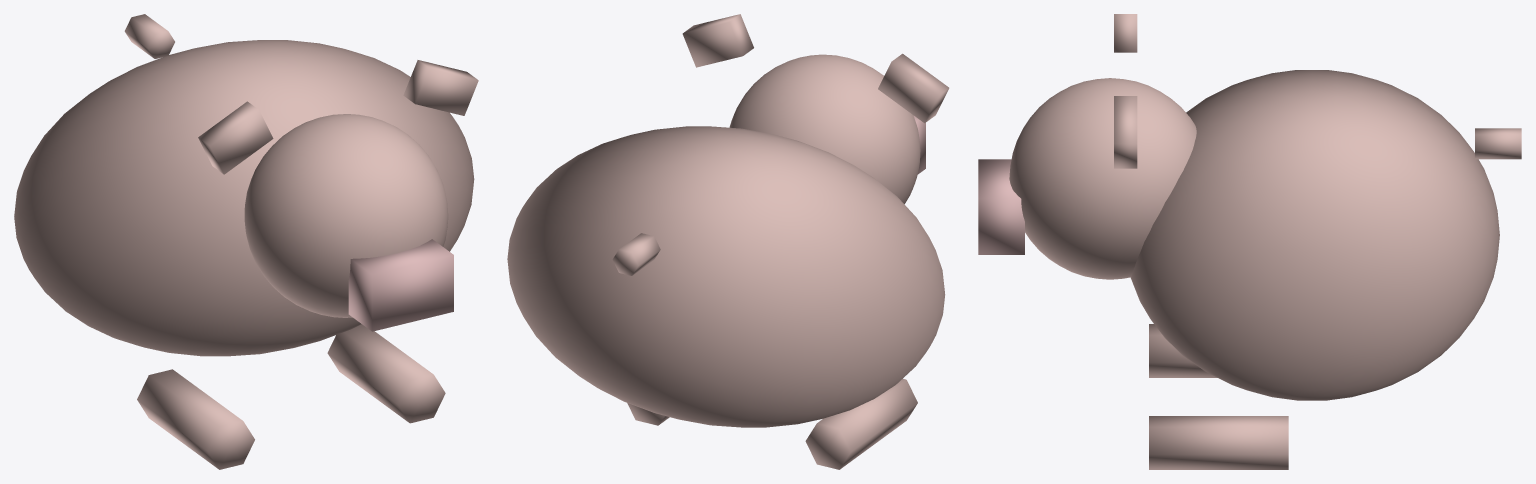
File: hy3_pig.glb
The picture shows the model from 3 angles, left to right: view 1: azimuth 30°, elevation 25°; view 2: azimuth 150°, elevation 25°; view 3: azimuth 270°, elevation 25°; orthographic projection. The views are drawn at different scales.
Parts seen in each view (by area): view 1: body, head, snout, leg-1, leg1, ear1, ear-1, tail; view 2: body, head, leg-1, ear1, ear-1, tail; view 3: body, head, leg1, snout, ear-1, leg-1, tail, ear1.
Part boxes in pixels (x1,y1,x2,y2): body: [14, 40, 474, 356]; head: [244, 114, 448, 317]; snout: [348, 239, 453, 331]; leg-1: [137, 369, 254, 469]; leg1: [327, 324, 445, 423]; ear1: [198, 101, 273, 174]; ear-1: [403, 60, 478, 115]; tail: [124, 14, 174, 58]; body: [507, 126, 945, 427]; head: [729, 54, 920, 203]; leg-1: [805, 379, 917, 469]; ear1: [878, 53, 949, 123]; ear-1: [682, 14, 753, 67]; tail: [612, 233, 660, 275]; body: [1130, 70, 1499, 400]; head: [1009, 78, 1196, 279]; leg1: [1149, 416, 1288, 469]; snout: [978, 159, 1024, 254]; ear-1: [1114, 96, 1137, 168]; leg-1: [1149, 324, 1217, 377]; tail: [1475, 128, 1521, 159]; ear1: [1114, 14, 1137, 52].
Size of the model in its own units: 0.616 by 0.5164 by 0.7.
